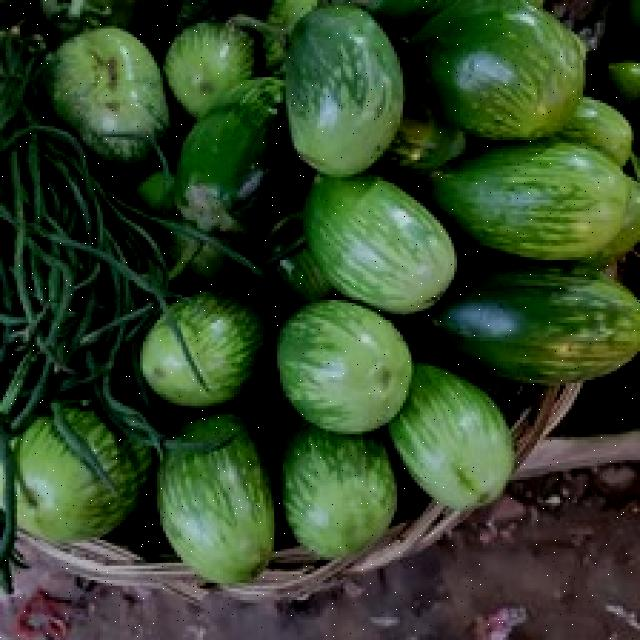Green Eggplant: (441, 254, 640, 403), (253, 275, 417, 440), (418, 0, 592, 152), (258, 0, 400, 180)
Long Beans: (0, 105, 139, 406)
